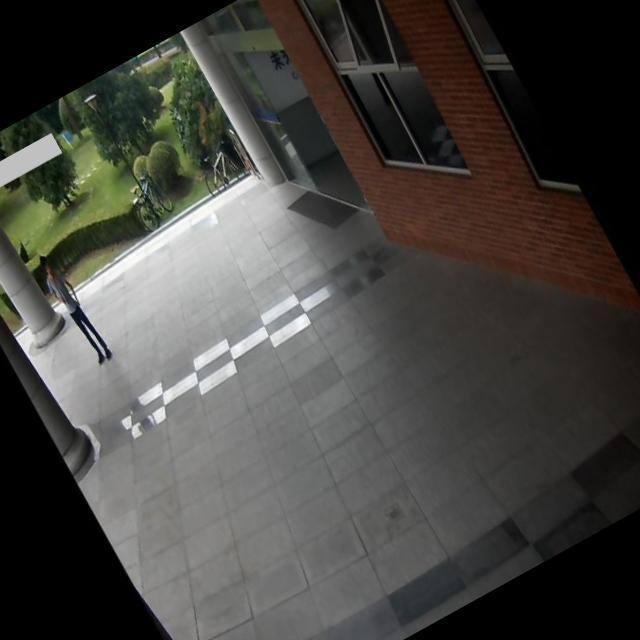person: (26, 236, 125, 380)
